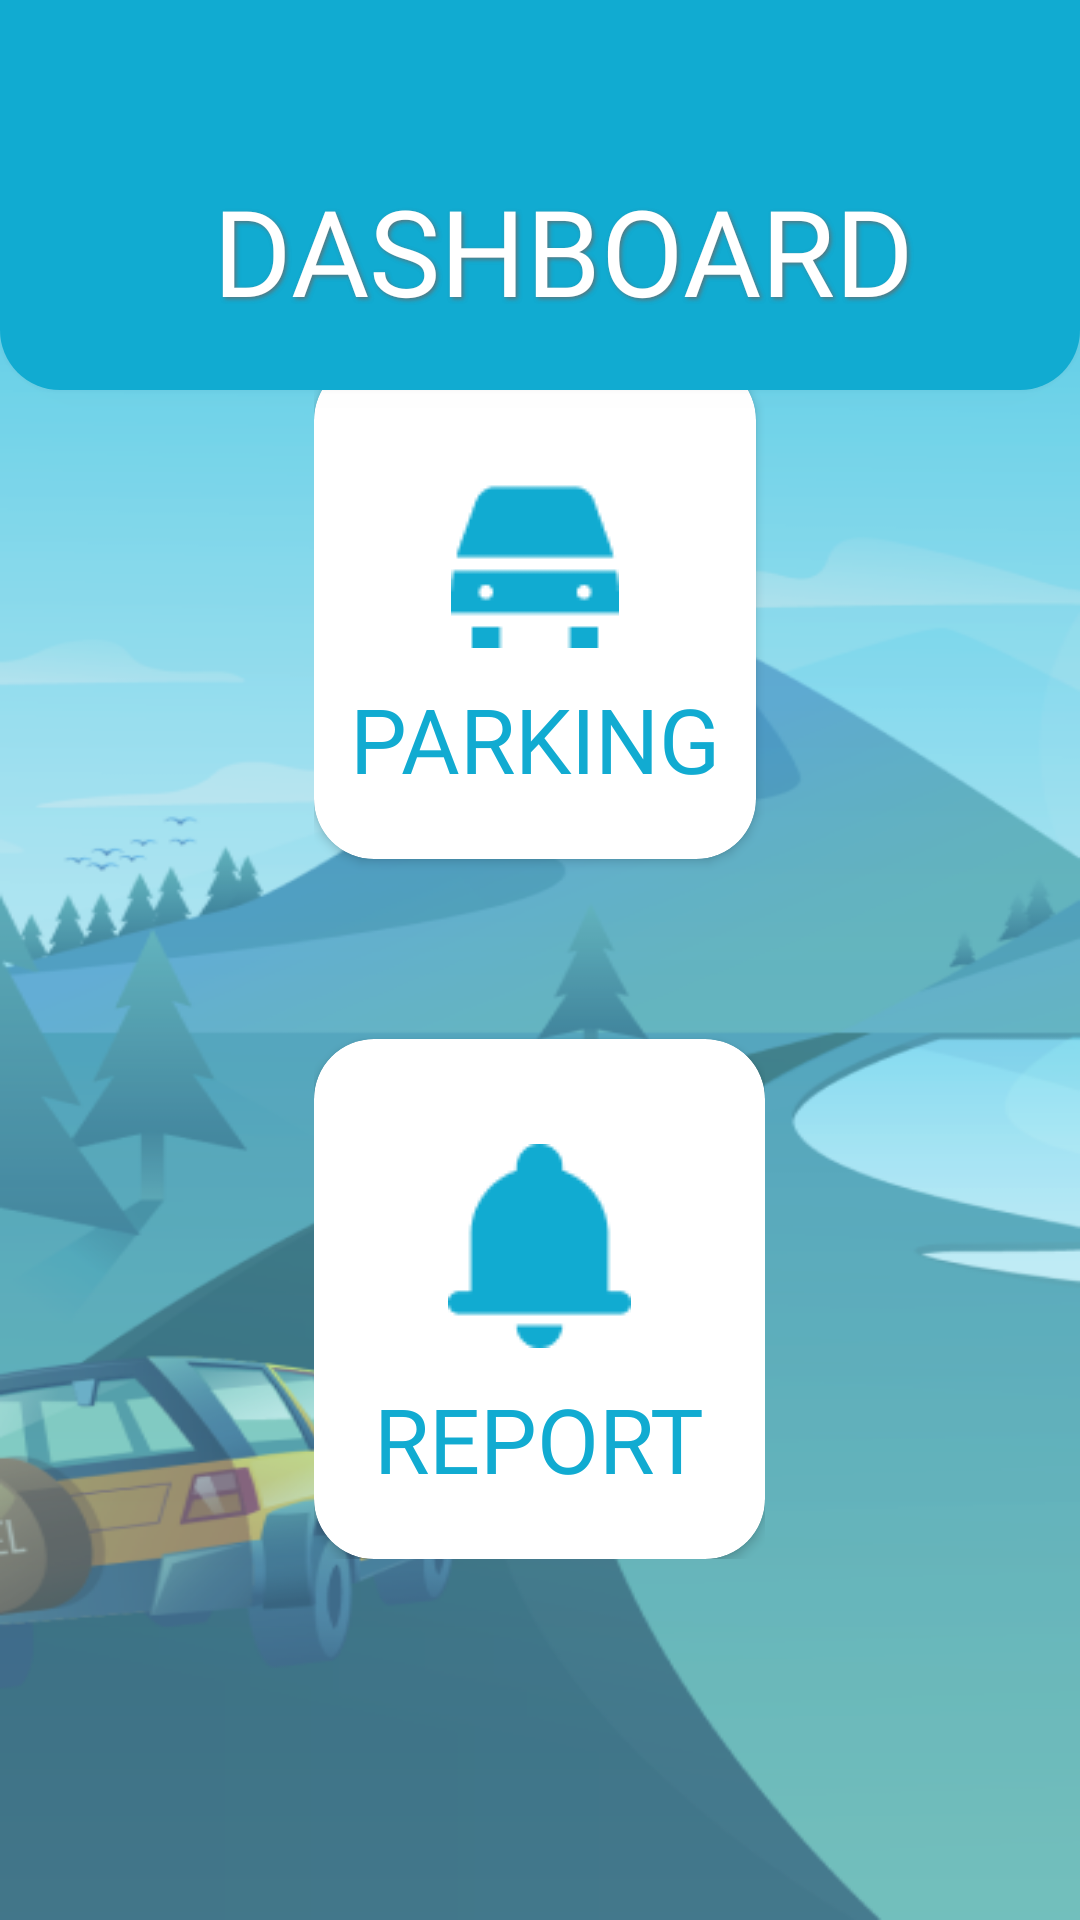

Icon click points for this 1080x1920 phone screenshot, format (x=x, y=y):
bell: (x=539, y=1246)
car: (x=535, y=566)
